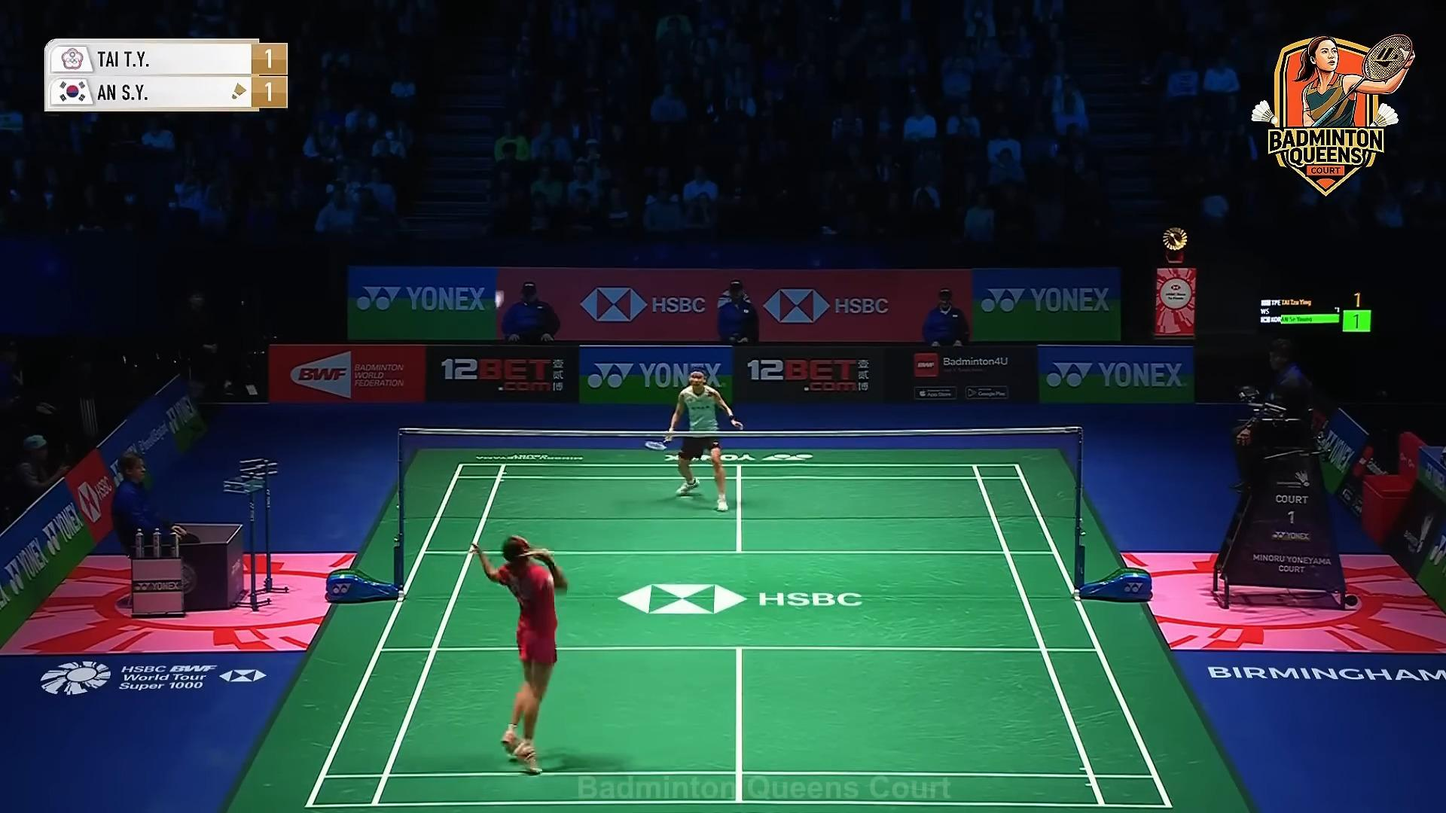player: (470, 535, 571, 777), (664, 365, 743, 513)
shuttlecock: (493, 291, 503, 309)
